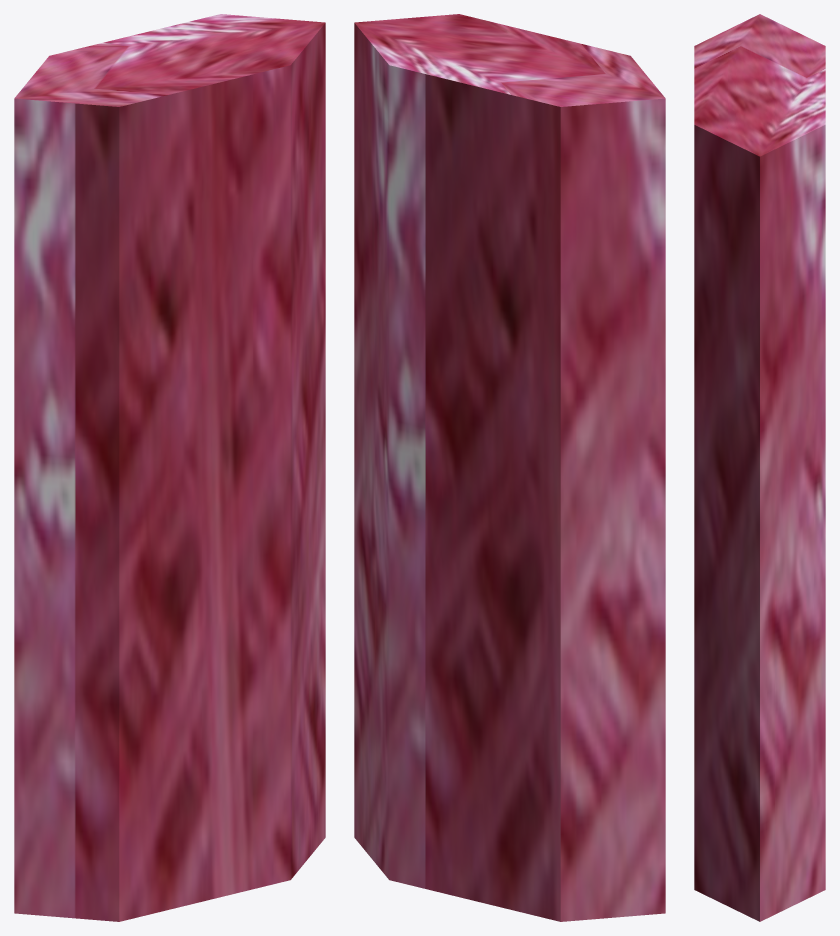
3 views of the same model, side by side, from view 1: azimuth 30°, elevation 25°; view 2: azimuth 150°, elevation 25°; view 3: azimuth 270°, elevation 25° (orthographic). The views are drawn at different scales.
Visible parts, largest first — view 1: Cube; view 2: Cube; view 3: Cube.
Boxes of the visible parts, bbox=[...] form: Cube: bbox=[14, 14, 325, 921]; Cube: bbox=[354, 14, 665, 921]; Cube: bbox=[694, 14, 825, 921].
Bounding box in the file's own units: 2 × 5 × 0.7779.
Materials: 1 (1 with a texture image).
